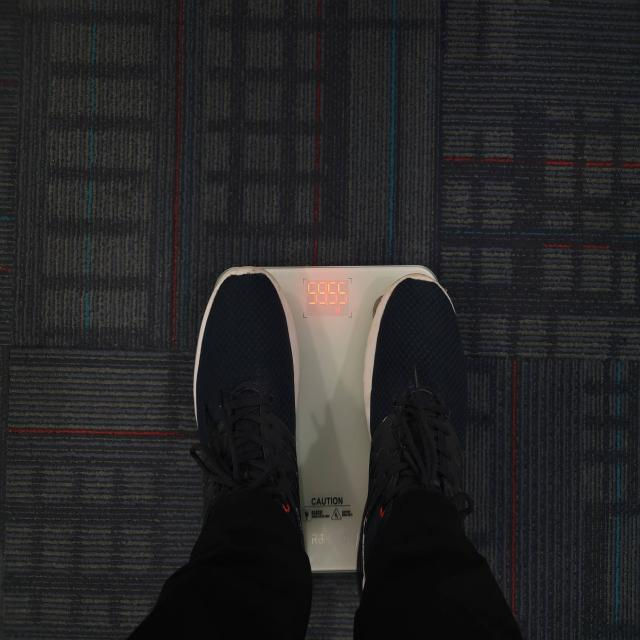ws: (128, 264, 523, 640)
